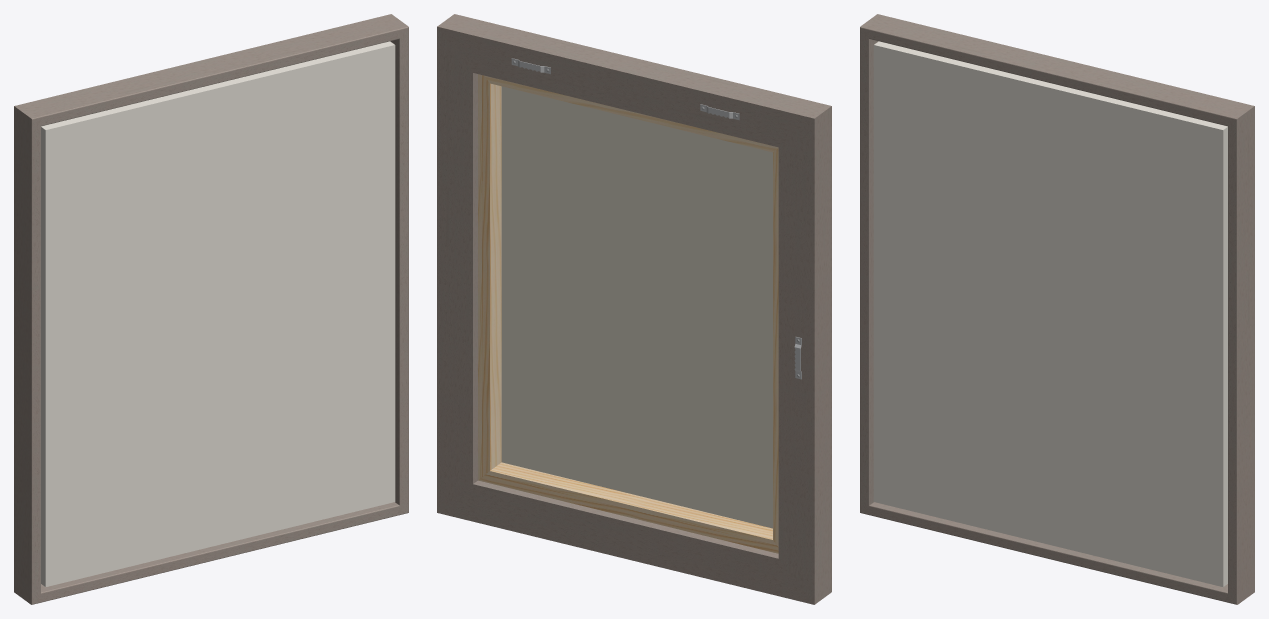
File: decoded-from-delivery.glb
The picture shows the model from 3 angles, left to right: view 1: azimuth 30°, elevation 25°; view 2: azimuth 150°, elevation 25°; view 3: azimuth 330°, elevation 25°; orthographic projection.
Visible parts, largest first — view 1: Canvas artwork front, Tray approved profile 0; view 2: Canvas linen reverse, Tray approved profile 0, Stretcher top, Sawtooth hanger 0; view 3: Canvas artwork front, Tray approved profile 0.
Boxes of the visible parts, bbox=[...] form: Canvas artwork front: bbox=[41, 41, 395, 586]; Tray approved profile 0: bbox=[14, 14, 408, 604]; Canvas linen reverse: bbox=[501, 86, 772, 528]; Tray approved profile 0: bbox=[437, 14, 831, 604]; Stretcher top: bbox=[478, 74, 778, 553]; Sawtooth hanger 0: bbox=[511, 58, 801, 379]; Canvas artwork front: bbox=[873, 41, 1227, 586]; Tray approved profile 0: bbox=[860, 14, 1254, 604].
Bounding box in the file's own units: 0.432 × 0.532 × 0.0374.
7 materials, 3 textured.
